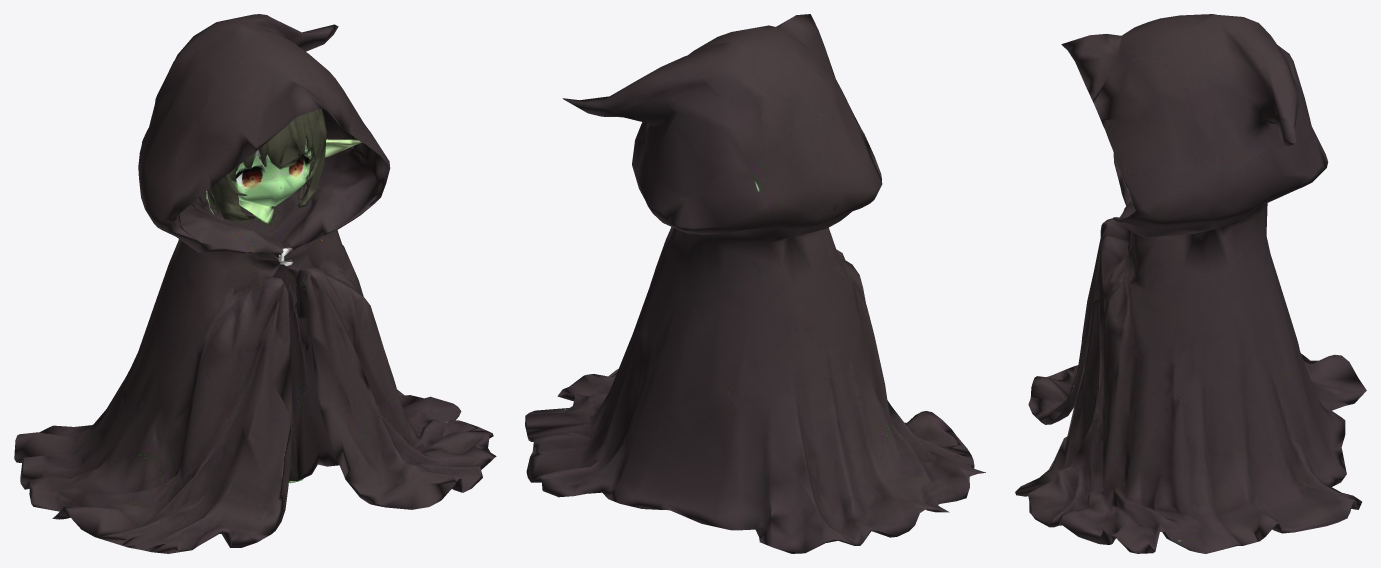
File: Little_Hooded_Goblin.glb
3 renders of one model, left to right at view 1: azimuth 30°, elevation 25°; view 2: azimuth 150°, elevation 25°; view 3: azimuth 270°, elevation 25°, orthographic.
Size of the model in its own units: 1.9 by 1.86 by 1.35.
1 material, 1 textured.
